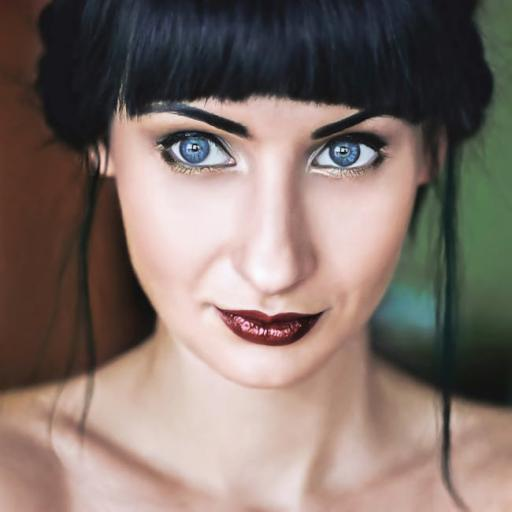lipstick: (216, 308, 322, 345)
